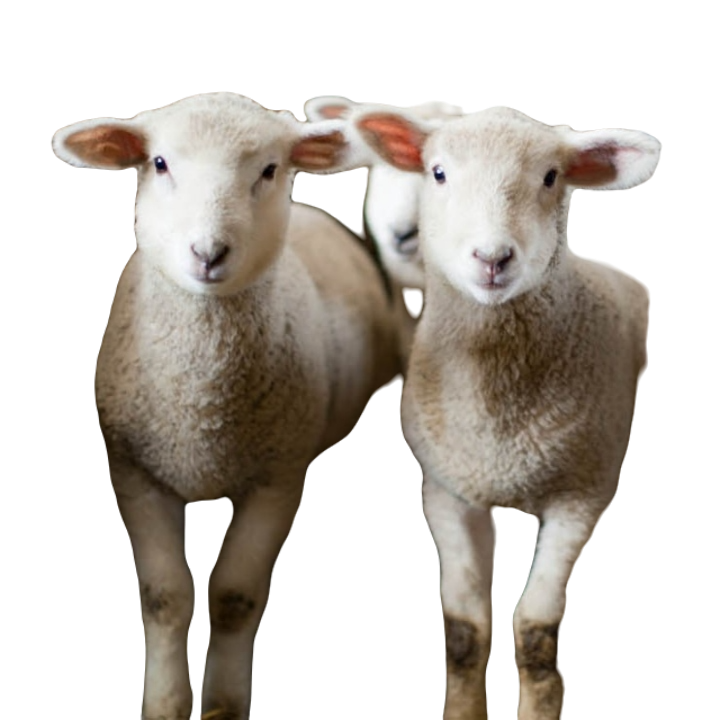Sheep: (46, 89, 357, 719), (359, 90, 662, 719)
